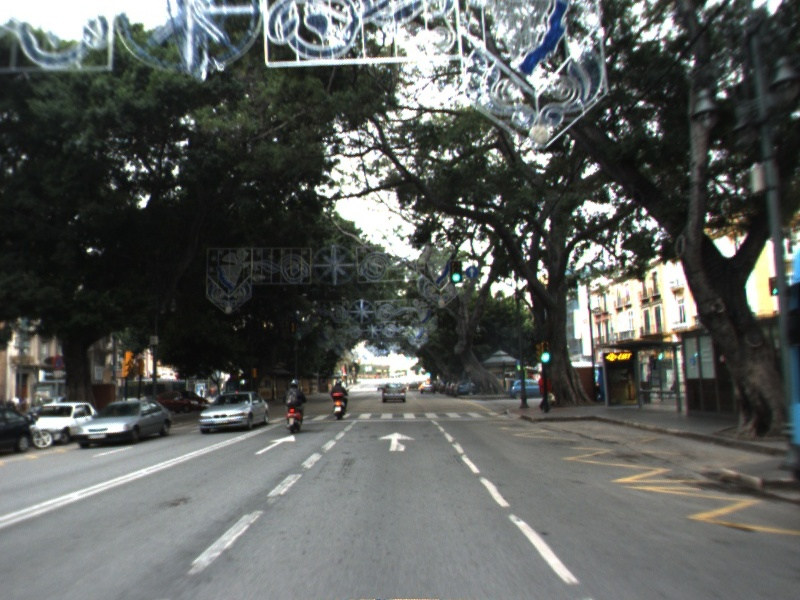STRAIGHT: (253, 433, 297, 456), (376, 430, 418, 453)
